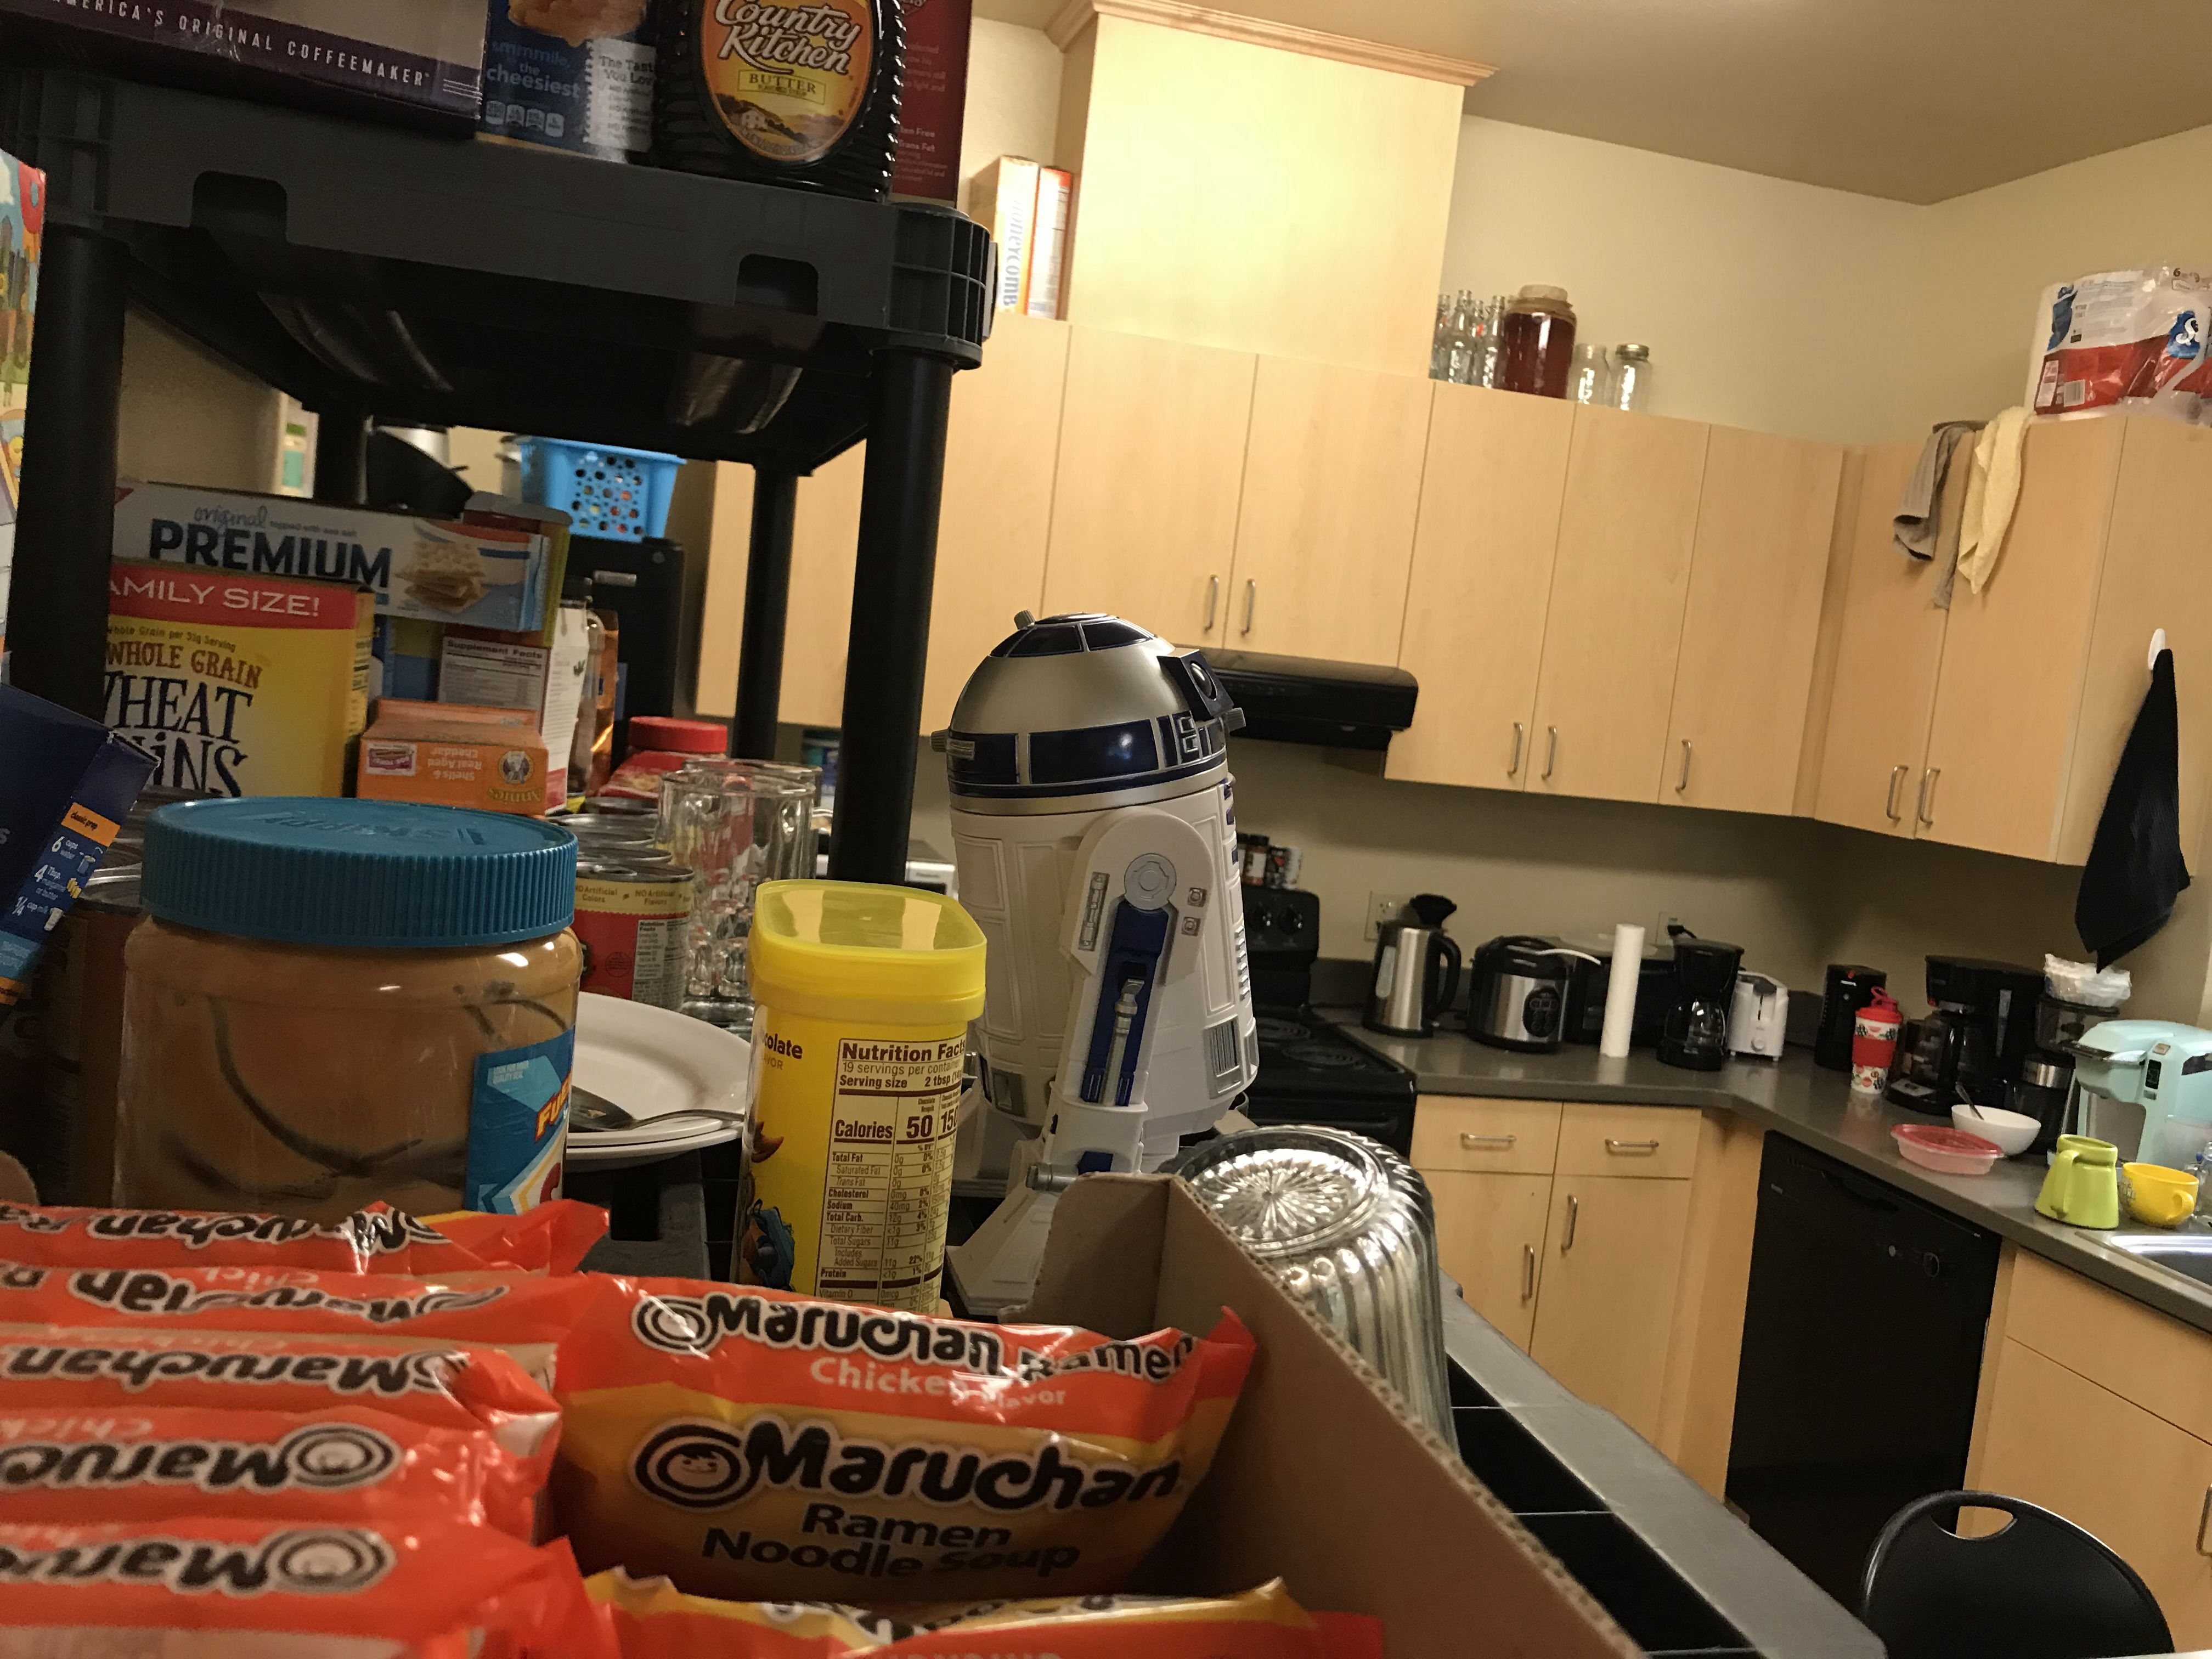r2d2: (942, 617, 1256, 1154)
